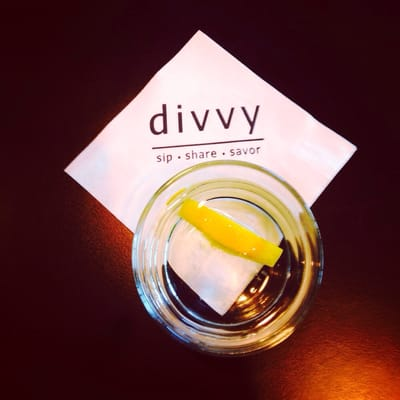pasta: (176, 198, 284, 268)
